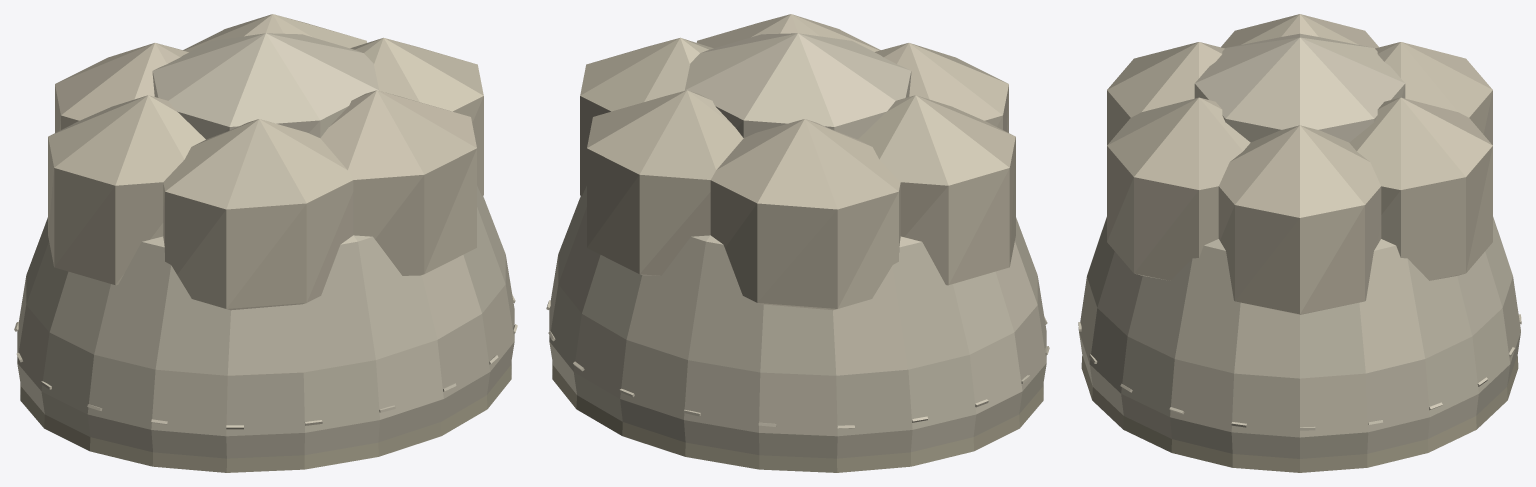
File: hat_chef.glb
The picture shows the model from 3 angles, left to right: view 1: azimuth 30°, elevation 25°; view 2: azimuth 150°, elevation 25°; view 3: azimuth 270°, elevation 25°; orthographic projection. The views are drawn at different scales.
Visible parts, largest first — view 1: hat_chef; view 2: hat_chef; view 3: hat_chef.
Boxes of the visible parts, x1,y1,x2,y2 form: hat_chef: (14,14,517,472); hat_chef: (546,14,1049,472); hat_chef: (1078,14,1521,472).
Size of the model in its own units: 0.4968 by 0.36 by 0.4375.
